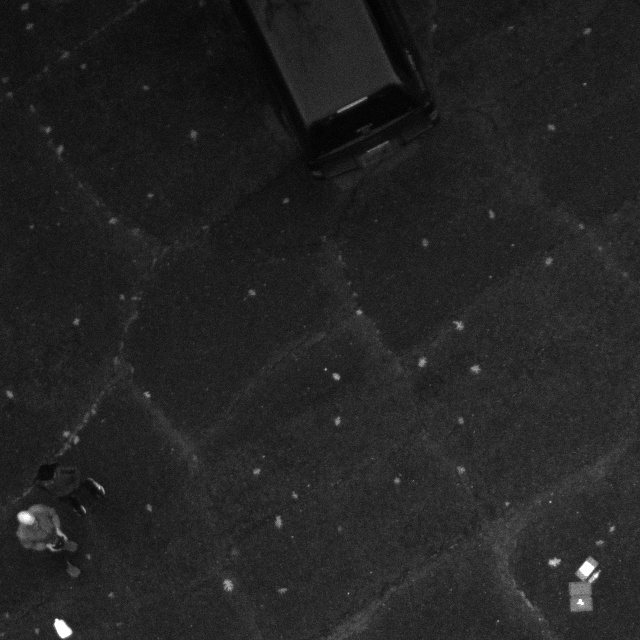bottle: (587, 570, 601, 586)
container: (568, 577, 595, 613), (573, 555, 599, 582)
